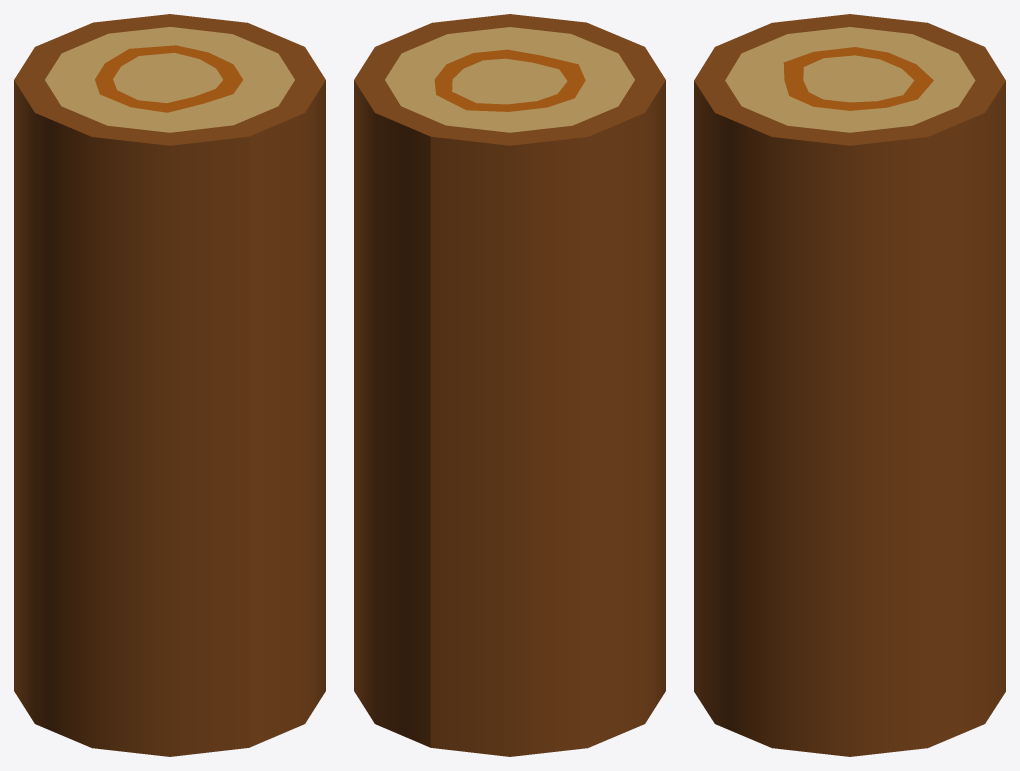
File: Wood_half.fbx
The picture shows the model from 3 angles, left to right: view 1: azimuth 30°, elevation 25°; view 2: azimuth 150°, elevation 25°; view 3: azimuth 270°, elevation 25°; orthographic projection.
Visible parts, largest first — view 1: tree_4.009, tree_4.010; view 2: tree_4.009, tree_4.010; view 3: tree_4.010, tree_4.009.
Boxes of the visible parts, x1=… form: tree_4.009: x1=14, y1=22, x2=249, y2=756; tree_4.010: x1=93, y1=14, x2=325, y2=747; tree_4.009: x1=430, y1=22, x2=665, y2=756; tree_4.010: x1=354, y1=14, x2=586, y2=747; tree_4.010: x1=694, y1=80, x2=1005, y2=756; tree_4.009: x1=694, y1=14, x2=1005, y2=80.
Size of the model in its own units: 37 by 80.01 by 37.
